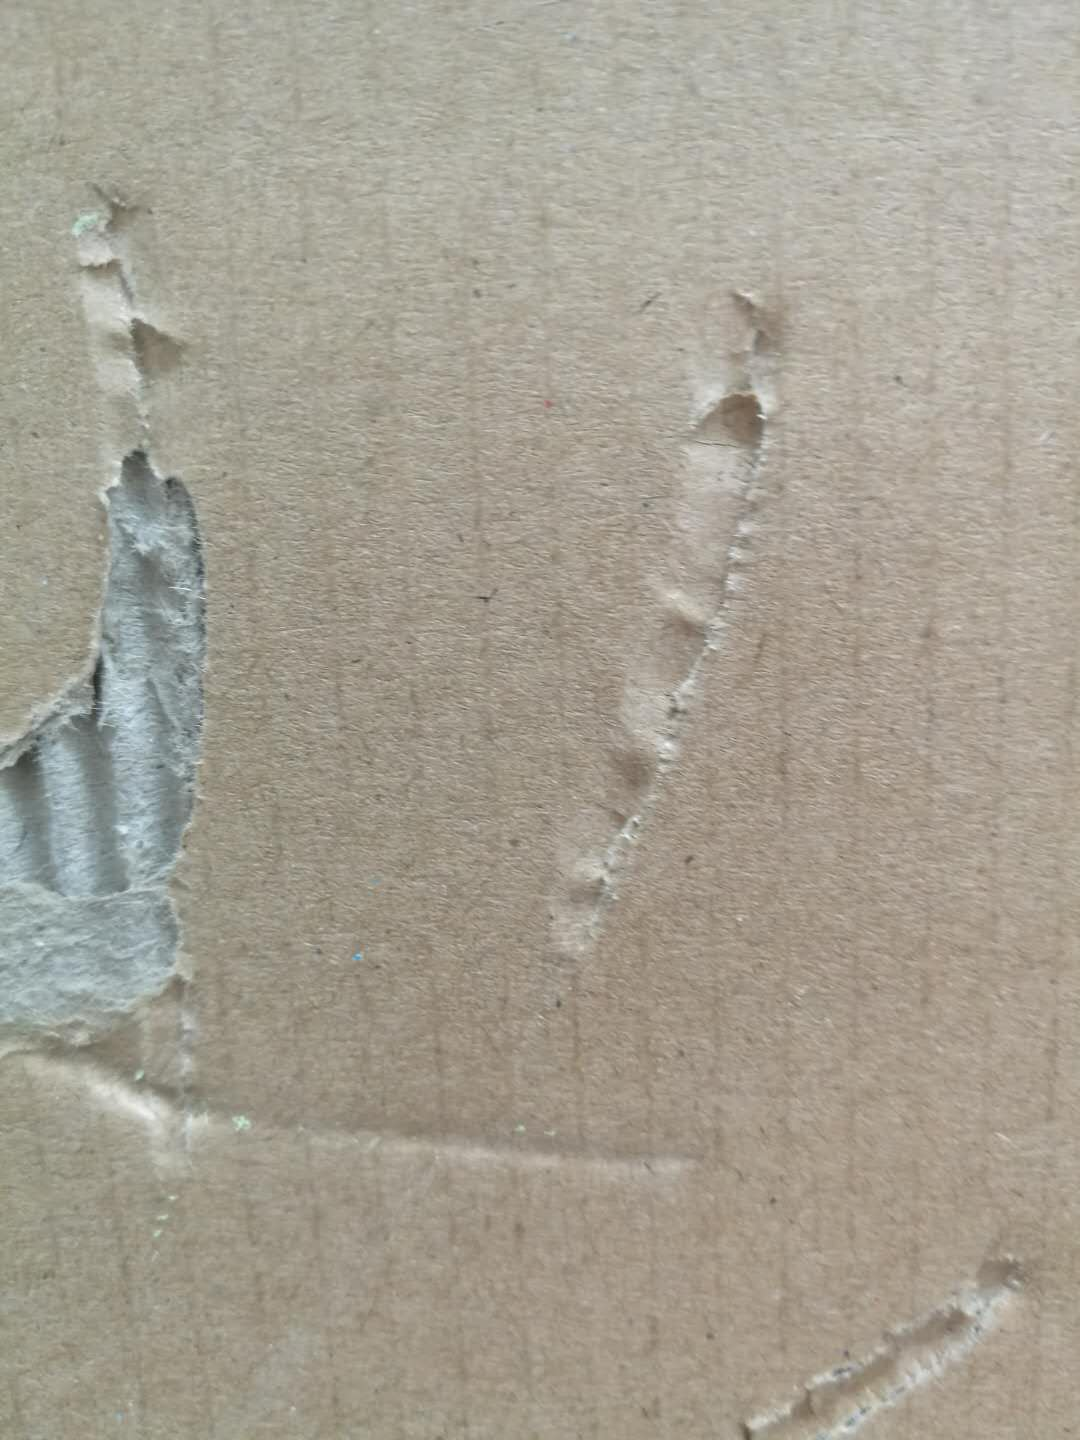defect: (2, 141, 723, 1239), (511, 266, 839, 975), (704, 1221, 1069, 1440)
